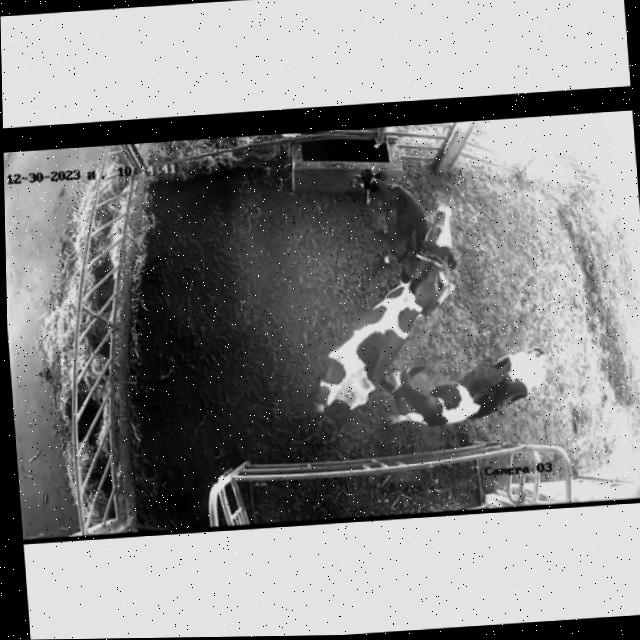propping: (397, 198, 473, 296)
